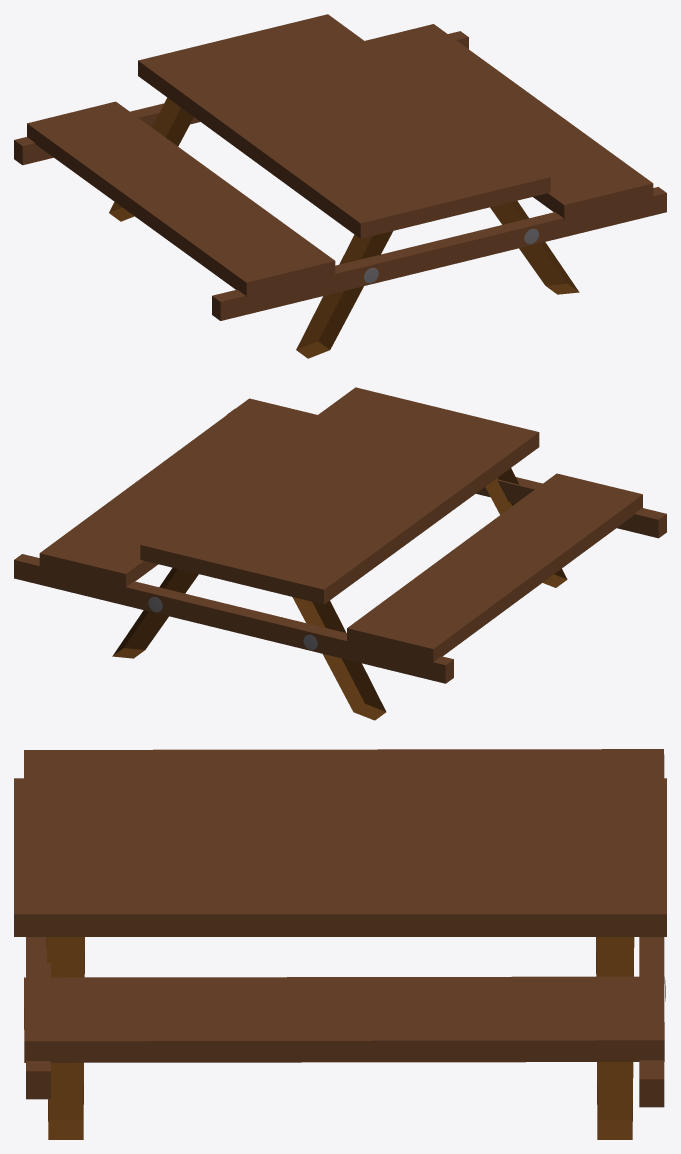
The model's file is Fuse Picnic Table.fbx.
The picture shows the model from 3 angles, top to bottom: view 1: azimuth 30°, elevation 25°; view 2: azimuth 150°, elevation 25°; view 3: azimuth 270°, elevation 25°; orthographic projection. The views are drawn at different scales.
Visible parts, largest first — view 1: Table, Chair 1, Chair 2, Middle Leg 2, Legs, Middle Leg 1; view 2: Table, Chair 1, Chair 2, Middle Leg 1, Legs, Middle Leg 2; view 3: Table, Chair 2, Chair 1, Legs, Middle Leg 1, Middle Leg 2.
Part boxes in pixels (left/top/right/bottom): Table: left=138, top=14, right=550, bottom=238; Chair 1: left=27, top=101, right=335, bottom=297; Chair 2: left=365, top=24, right=653, bottom=219; Middle Leg 2: left=212, top=187, right=666, bottom=320; Legs: left=109, top=97, right=579, bottom=358; Middle Leg 1: left=14, top=31, right=468, bottom=165; Table: left=140, top=387, right=539, bottom=604; Chair 1: left=347, top=473, right=642, bottom=661; Chair 2: left=39, top=398, right=317, bottom=586; Middle Leg 1: left=14, top=554, right=453, bottom=683; Legs: left=112, top=468, right=567, bottom=720; Middle Leg 2: left=227, top=409, right=666, bottom=538; Table: left=14, top=778, right=666, bottom=936; Chair 2: left=24, top=976, right=664, bottom=1062; Chair 1: left=24, top=749, right=664, bottom=778; Legs: left=46, top=937, right=634, bottom=1139; Middle Leg 1: left=639, top=937, right=664, bottom=1107; Middle Leg 2: left=26, top=937, right=50, bottom=1099.
Size of the model in its own units: 664 by 186 by 560.
